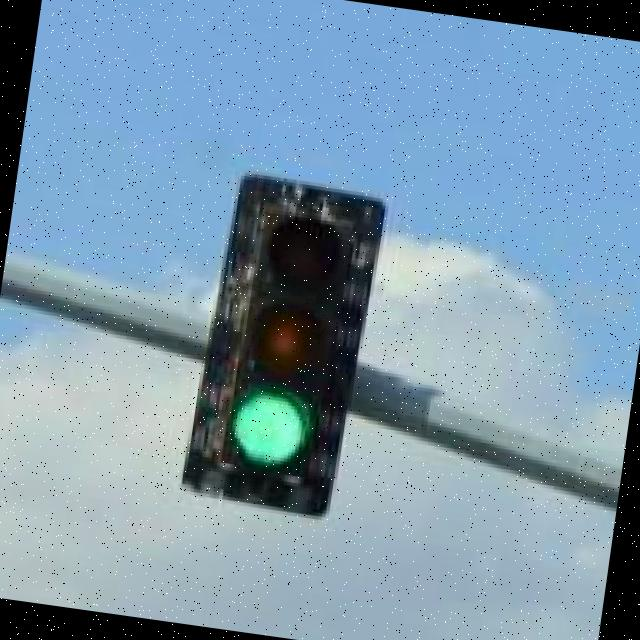Zielone swiatlo: (222, 212, 354, 486)
